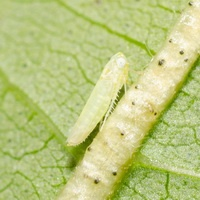insect: (57, 0, 199, 199)
